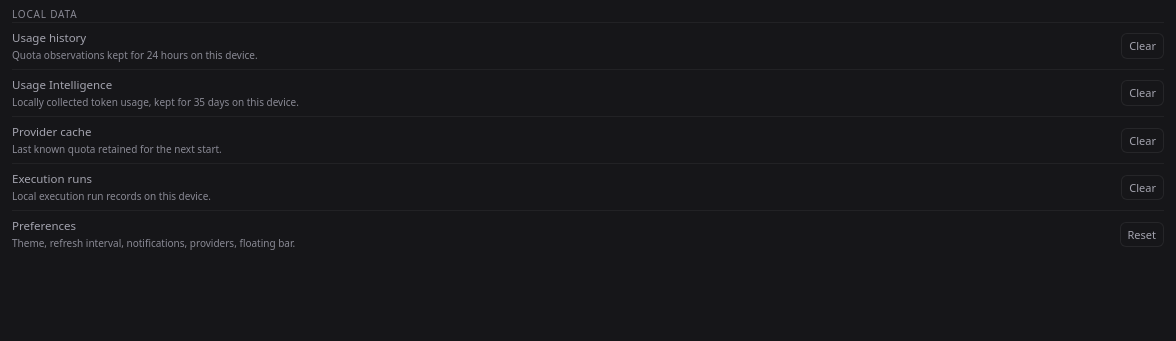
Test: local data section › clears after confirmation and shows a restrained success line
Click the button with aria-label "Clear usage history" at (1143, 46), box [1121,33,1164,59]
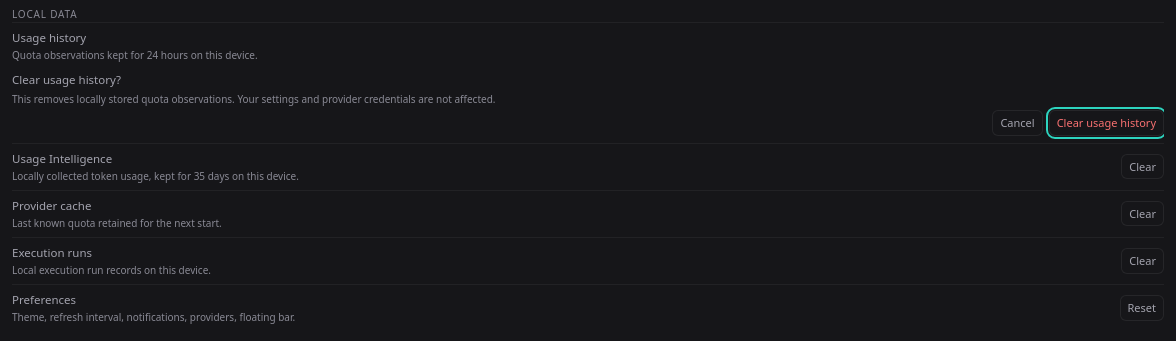
Click the button "Clear usage history" at (1106, 123), box [1049,110,1164,136]
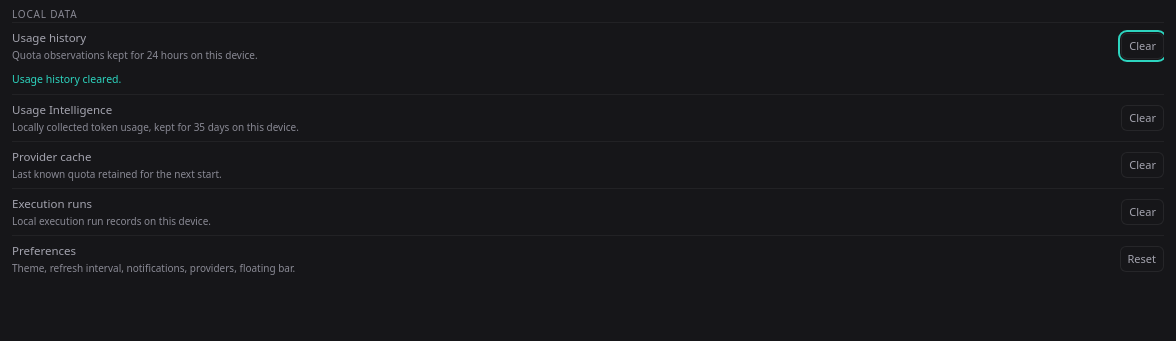
Expected: the text "Clear usage history?" is not shown
Result: the message reads "Usage history cleared." at [12,72,121,86]
